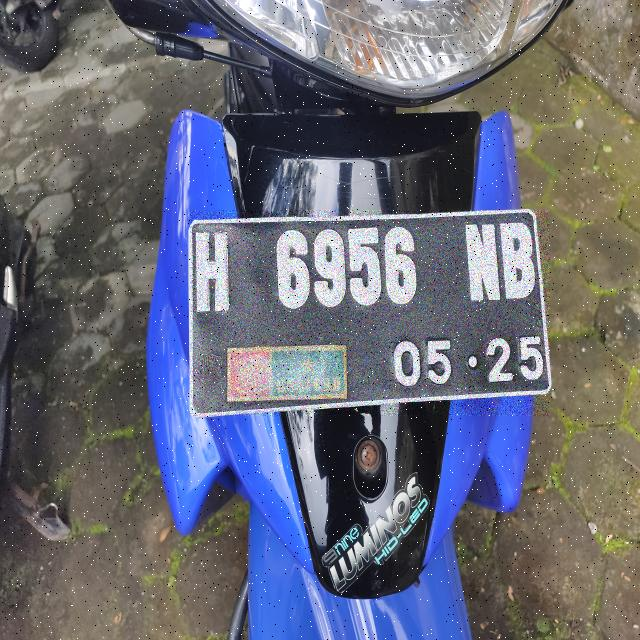plate: (190, 211, 549, 415)
